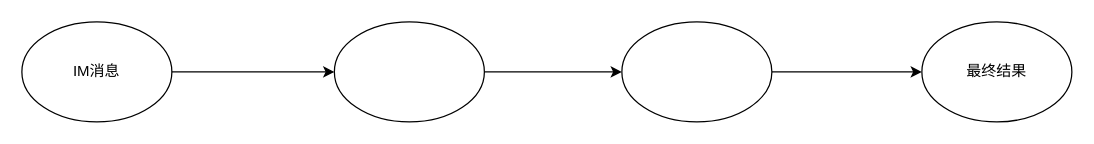
This 1094x144 diagram has some shape labels left out. Each missing label, with the box of its shape:
服务器免打扰: (333, 21, 484, 122)
频道免打扰: (621, 21, 772, 122)
